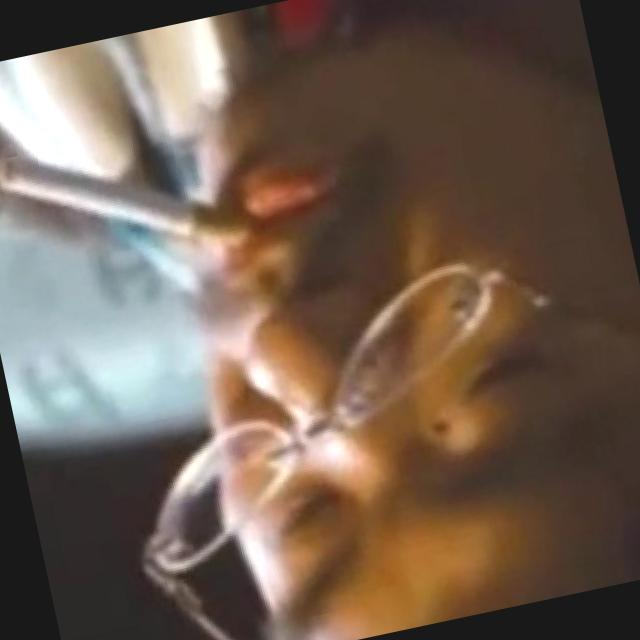cigarette: (0, 107, 261, 300)
